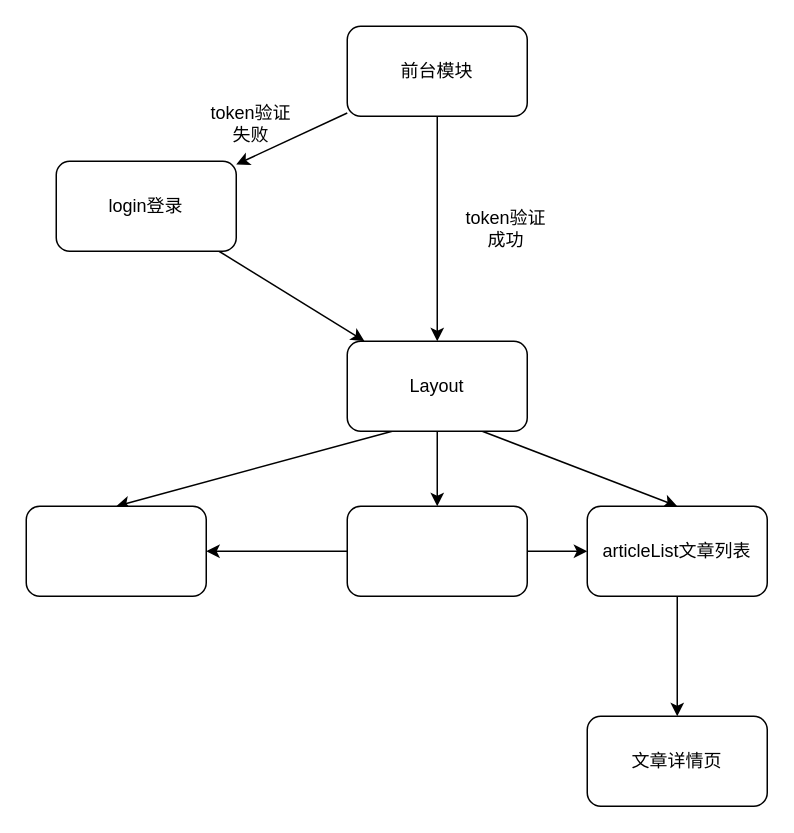
The diagram is 794 pixels wide and 833 high, and some of its shapes have lost their labels. The box of each missing label's shape, as (x1, y1, x2, y2) in pixels:
home主页: (346, 505, 527, 596)
messageBord留言版: (25, 505, 206, 596)
